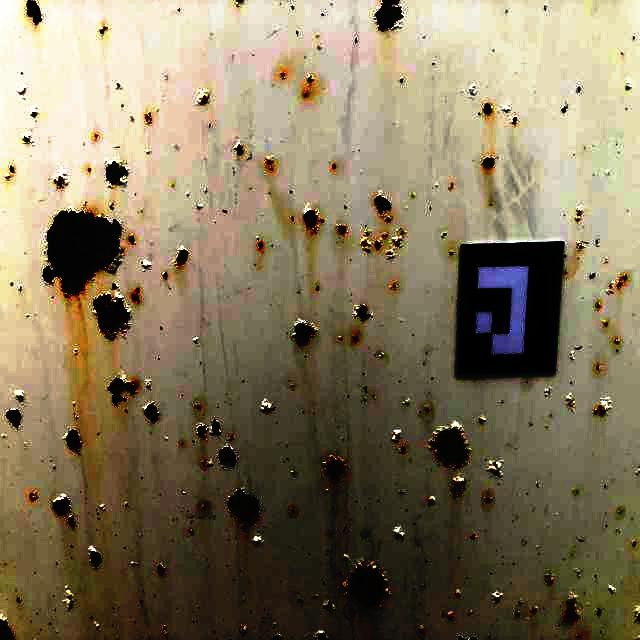Corrosion: (41, 206, 124, 299), (337, 557, 391, 616), (92, 283, 133, 342), (427, 420, 471, 471), (227, 487, 259, 529), (107, 371, 139, 407), (374, 0, 403, 32), (105, 157, 129, 188), (291, 319, 318, 346), (322, 455, 347, 484), (302, 202, 324, 234), (386, 226, 406, 261), (374, 190, 393, 222), (217, 443, 238, 469), (563, 593, 579, 624), (0, 610, 16, 640), (62, 428, 81, 453), (142, 402, 161, 423), (26, 0, 42, 24), (52, 494, 70, 515), (173, 246, 189, 269), (451, 473, 466, 497), (354, 303, 373, 321), (53, 168, 69, 189), (486, 459, 503, 477), (594, 399, 611, 417), (6, 409, 21, 429), (88, 545, 101, 568), (195, 89, 210, 106), (360, 230, 371, 252), (65, 585, 74, 611), (208, 419, 221, 436), (616, 274, 629, 290), (392, 526, 405, 540), (196, 423, 208, 438), (492, 590, 504, 605), (15, 390, 26, 406), (566, 393, 575, 412), (262, 399, 273, 414), (132, 287, 141, 305), (336, 223, 348, 236), (22, 131, 33, 145), (323, 601, 337, 612), (575, 240, 589, 251), (314, 630, 329, 640), (483, 156, 495, 168), (391, 430, 401, 443), (483, 102, 493, 115), (575, 206, 583, 222), (234, 142, 243, 156), (607, 280, 615, 295), (144, 111, 153, 124), (633, 606, 640, 622), (141, 261, 151, 272), (17, 85, 27, 95), (252, 534, 262, 544), (389, 280, 398, 291), (266, 156, 273, 170), (68, 514, 75, 528), (162, 624, 169, 638), (561, 102, 569, 114), (158, 562, 165, 575), (307, 74, 315, 85), (100, 23, 108, 34), (546, 573, 554, 584), (202, 460, 213, 468), (375, 238, 382, 250), (239, 625, 248, 634), (31, 106, 38, 117), (625, 79, 632, 90), (29, 493, 38, 501), (271, 634, 283, 640), (399, 445, 407, 454), (485, 495, 493, 504), (470, 84, 476, 96), (227, 433, 235, 442), (632, 541, 640, 550), (145, 379, 152, 389), (257, 240, 264, 250), (129, 233, 135, 244), (427, 497, 435, 505), (343, 553, 350, 562), (479, 416, 486, 425), (503, 104, 510, 113), (544, 388, 551, 397), (531, 605, 538, 614), (470, 533, 478, 540), (9, 165, 15, 174), (570, 351, 576, 360), (352, 334, 359, 341), (289, 507, 296, 514), (382, 231, 388, 239), (279, 71, 285, 79), (162, 272, 168, 280), (595, 238, 600, 247), (109, 201, 114, 209), (512, 116, 517, 124), (576, 86, 581, 94), (603, 318, 608, 326), (614, 338, 619, 346), (596, 608, 601, 616), (337, 570, 343, 576), (442, 232, 448, 238), (195, 403, 200, 410), (332, 163, 337, 170), (598, 365, 603, 372), (83, 200, 87, 208), (6, 174, 11, 180), (419, 627, 424, 633), (196, 204, 202, 209), (145, 148, 150, 154), (181, 491, 187, 496), (188, 530, 193, 536), (450, 250, 455, 256), (597, 300, 600, 309), (117, 82, 121, 88), (516, 611, 520, 617), (73, 348, 77, 354), (354, 37, 357, 44), (544, 4, 547, 11), (17, 597, 21, 602), (292, 216, 295, 222), (87, 167, 91, 171), (19, 286, 22, 291), (95, 134, 98, 139), (400, 78, 403, 83), (304, 92, 307, 96), (10, 282, 13, 286)
